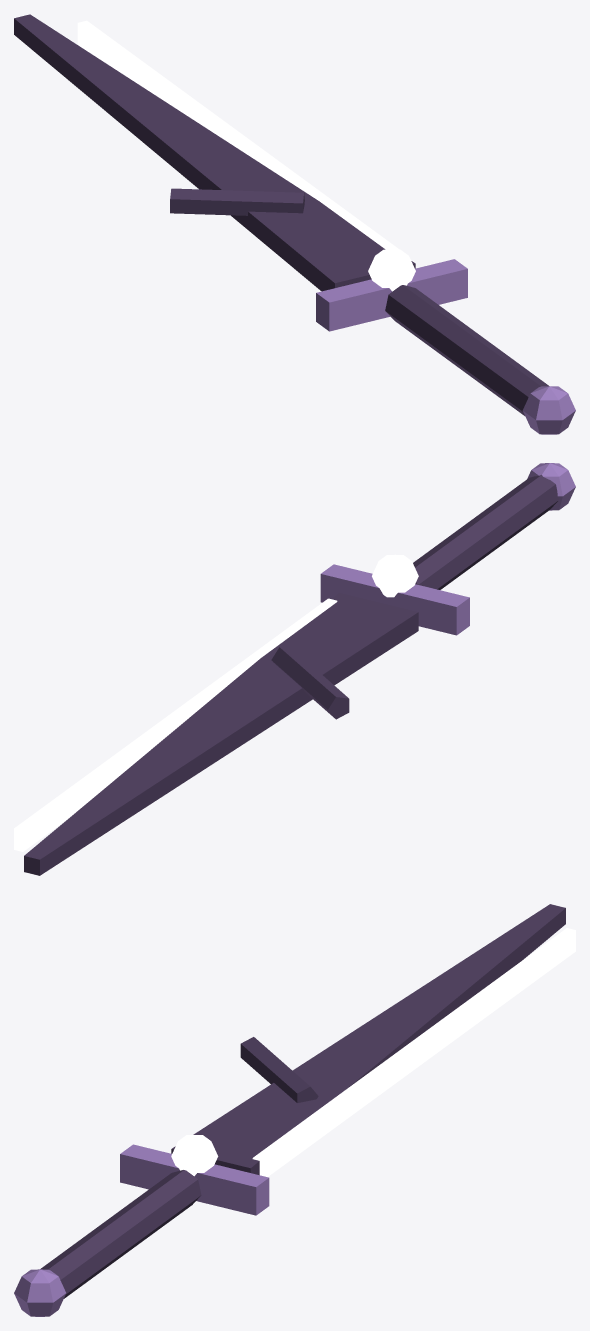
File: DF_UmbralBough.fbx
3 renders of one model, top to bottom at view 1: azimuth 30°, elevation 25°; view 2: azimuth 150°, elevation 25°; view 3: azimuth 330°, elevation 25°, orthographic.
Parts seen in each view (by area): view 1: DF_UmbralBough; view 2: DF_UmbralBough; view 3: DF_UmbralBough.
Boxes of the visible parts, left/top/right/bottom form: DF_UmbralBough: left=14, top=14, right=575, bottom=434; DF_UmbralBough: left=14, top=463, right=575, bottom=875; DF_UmbralBough: left=14, top=904, right=575, bottom=1316.
Bounding box in the file's own units: 0.6792 × 0.29 × 4.06.
